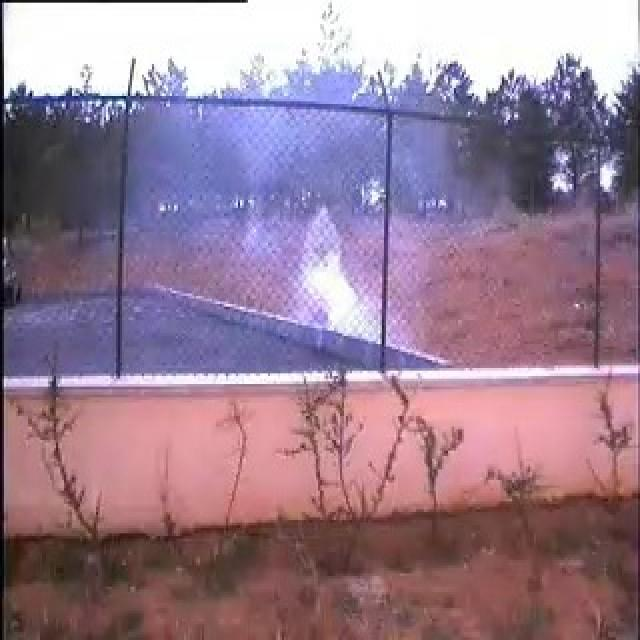smoke: (232, 121, 409, 344)
